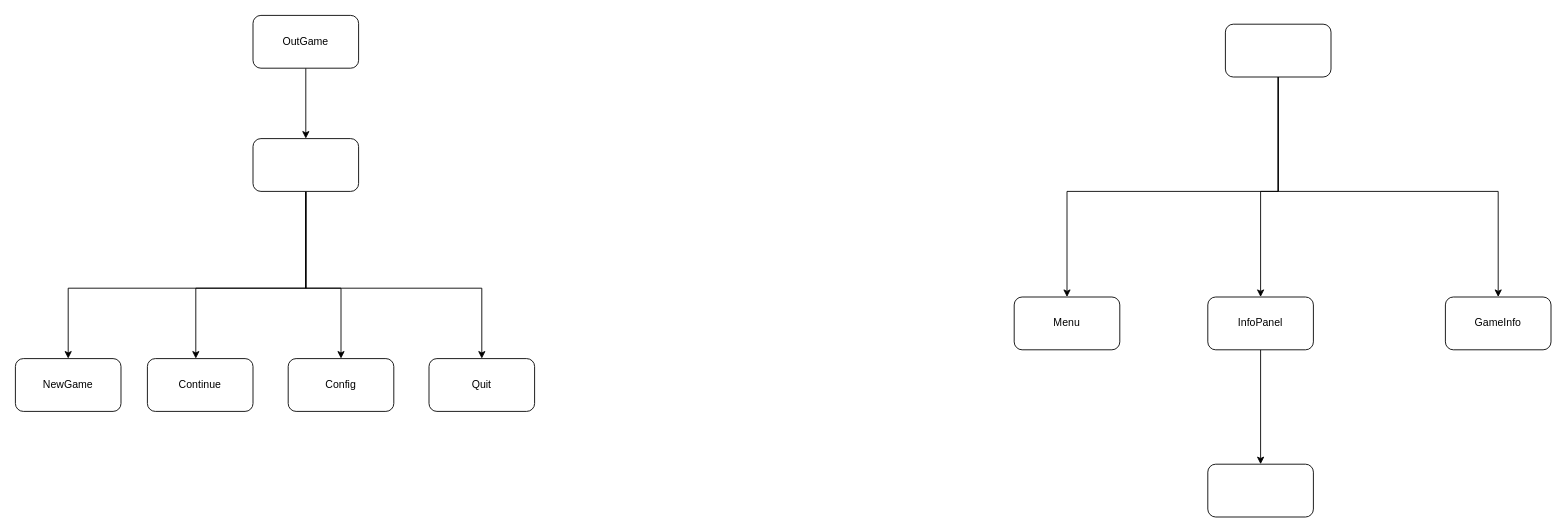
Some shapes in this 1566 by 532 pixel diagram are drawn without their labels. Here are the shapes that lost their labels. From the top down, the centre of each, then its label:
At (1278,50): "InGame".
At (305,164): "StartMenu".
At (1260,490): "Map PlayerCharacter Skill".
